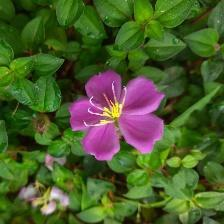malabar melastome: (68, 68, 168, 162)
